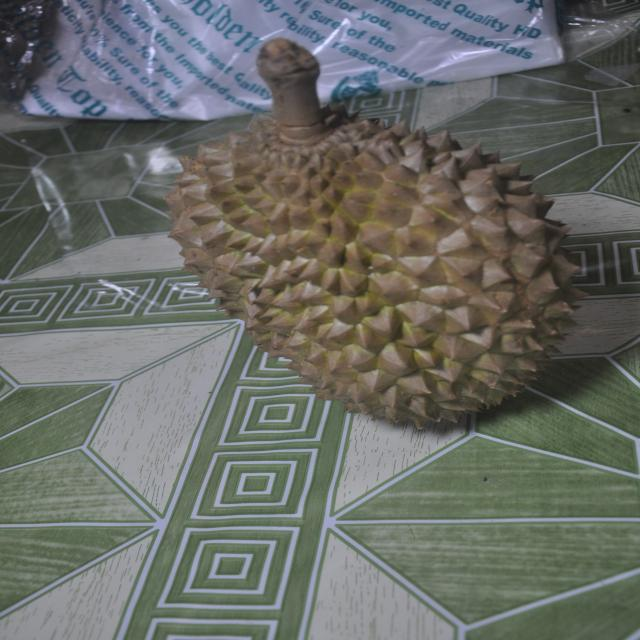mature: (165, 38, 586, 427)
